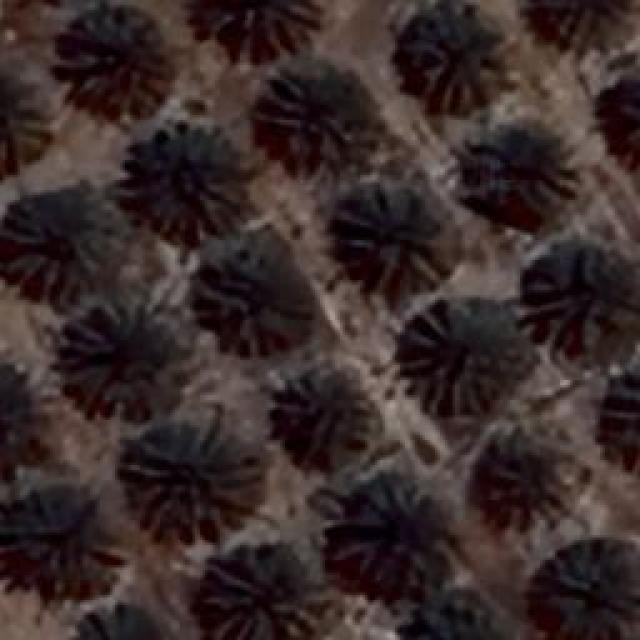PalmTree: (120, 420, 262, 540), (51, 305, 179, 410), (58, 9, 184, 112), (395, 8, 515, 116), (261, 65, 379, 173), (135, 136, 250, 246), (464, 134, 576, 236), (400, 300, 502, 410), (340, 190, 450, 285), (0, 502, 118, 590), (204, 248, 308, 344), (342, 478, 438, 582), (540, 550, 640, 640), (198, 560, 312, 638), (520, 250, 608, 350), (2, 210, 100, 292), (272, 372, 366, 456), (392, 586, 514, 640), (496, 432, 572, 516), (520, 0, 640, 53), (205, 0, 320, 55), (0, 70, 52, 170), (65, 598, 179, 640), (596, 74, 640, 173), (0, 364, 44, 462), (596, 382, 640, 479)
